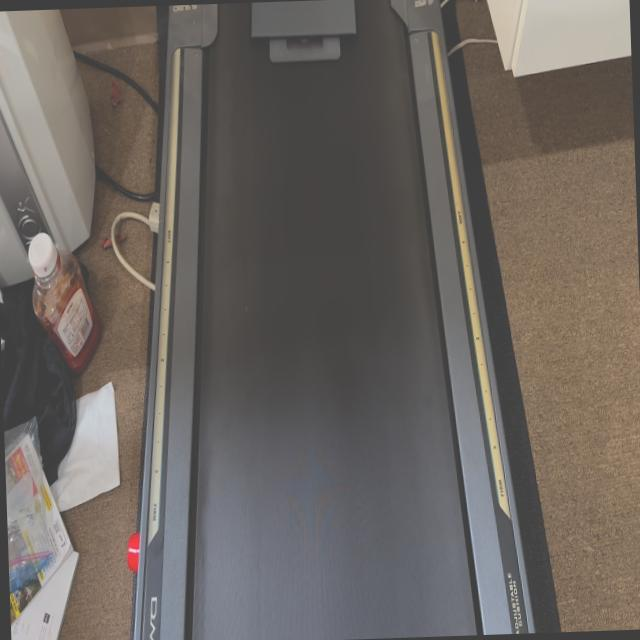Trash: (248, 0, 359, 63)
